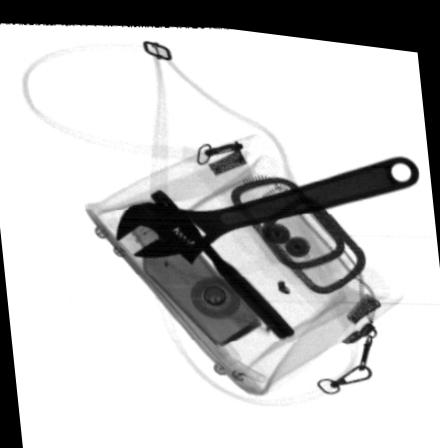Pliers: (146, 185, 294, 331)
Wrench: (115, 141, 418, 260)
